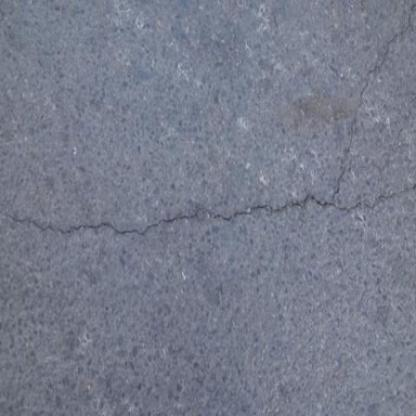Cracks: (0, 175, 415, 250)
